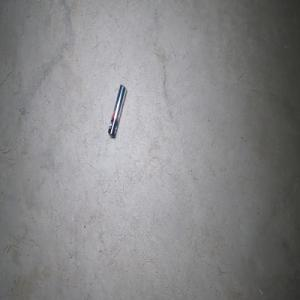Battery: (107, 83, 126, 138)
